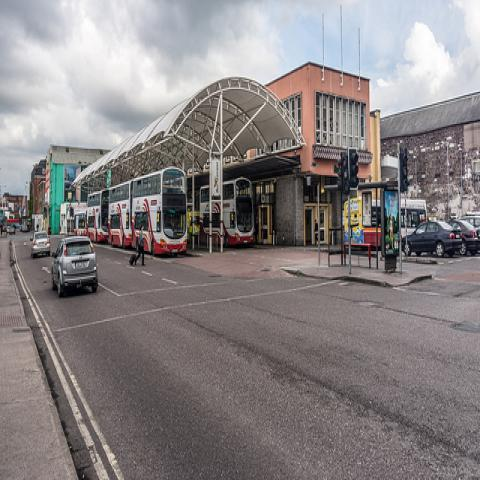bus: (108, 166, 187, 256), (200, 177, 254, 248), (86, 188, 109, 244), (364, 198, 380, 248), (73, 208, 87, 236)
car: (51, 236, 98, 297), (398, 216, 463, 256), (450, 218, 478, 256), (460, 216, 480, 251), (29, 229, 51, 259), (2, 225, 12, 234), (10, 224, 15, 235)
